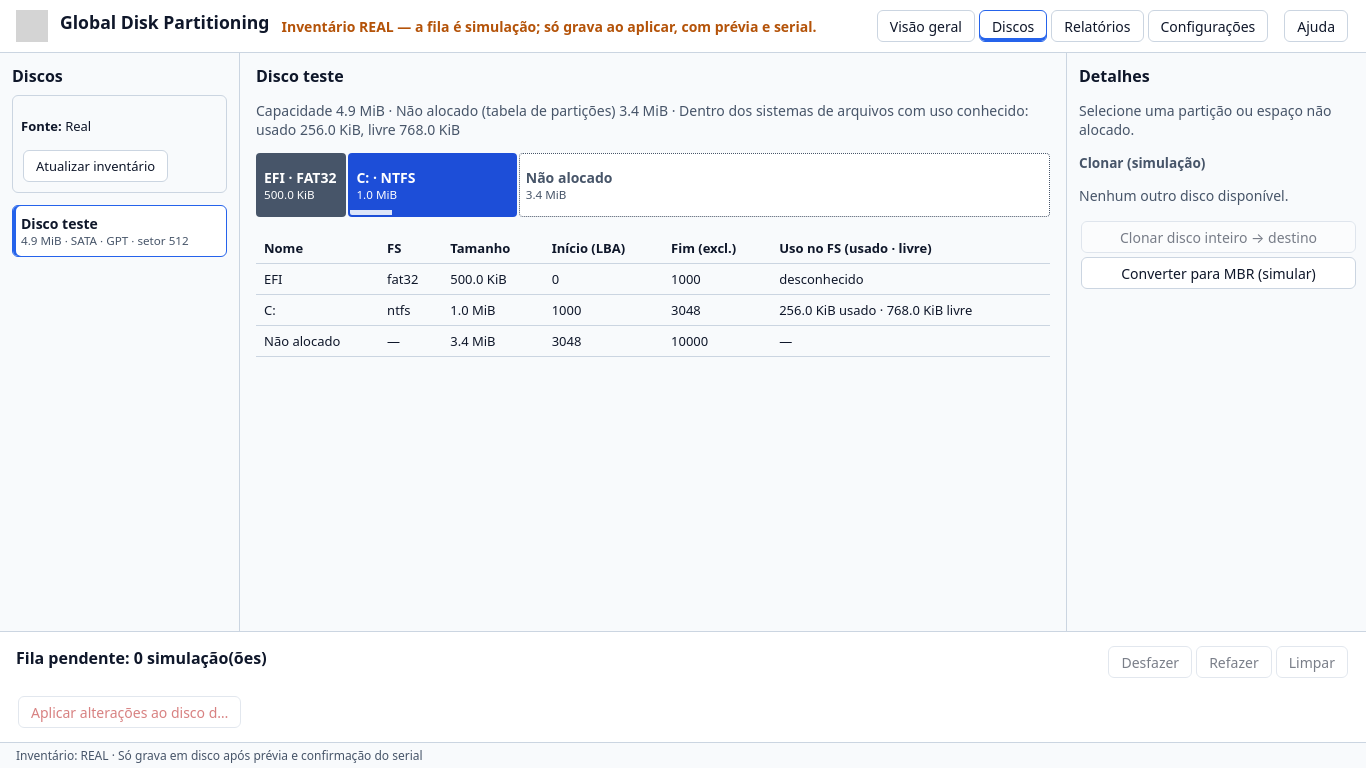
Visão geral mostra contadores do inventário
Click the button "Visão geral" at (926, 26), box [877,10,975,42]
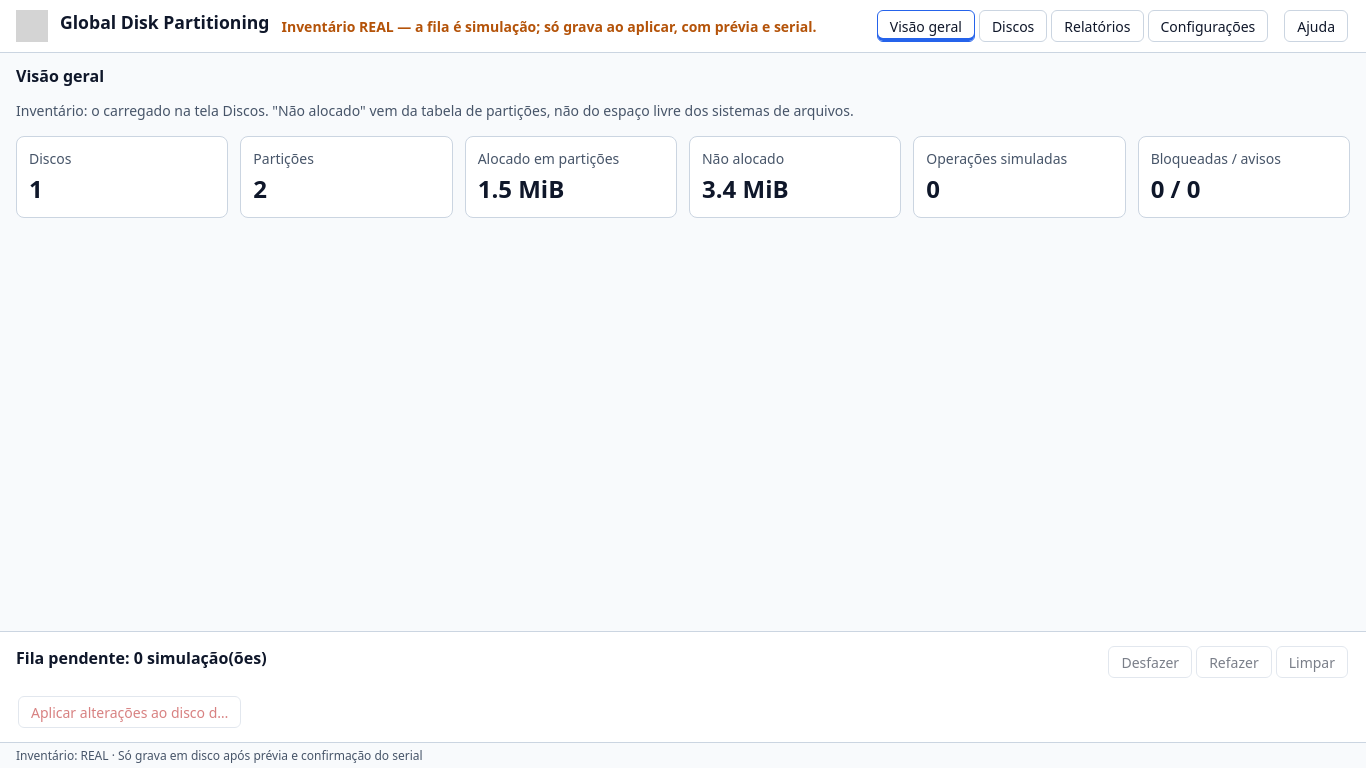
Check: the text "2" is shown, box [253,172,267,205]
Check: the text "Discos" is shown, box [29,149,71,168]
